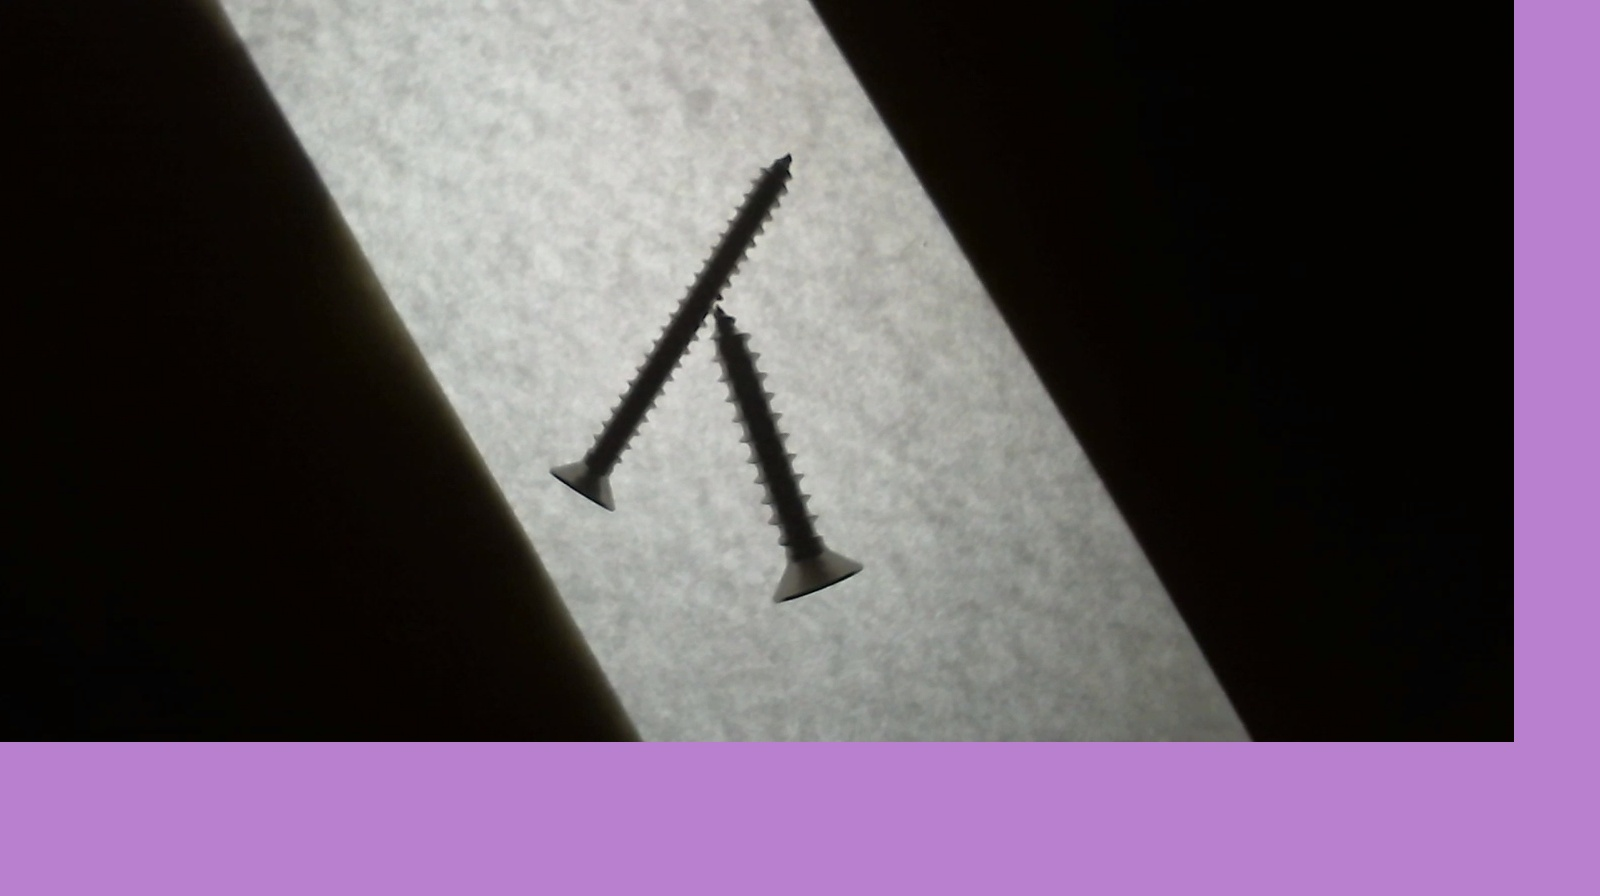S001: (709, 300, 859, 608)
S002: (547, 152, 793, 515)
